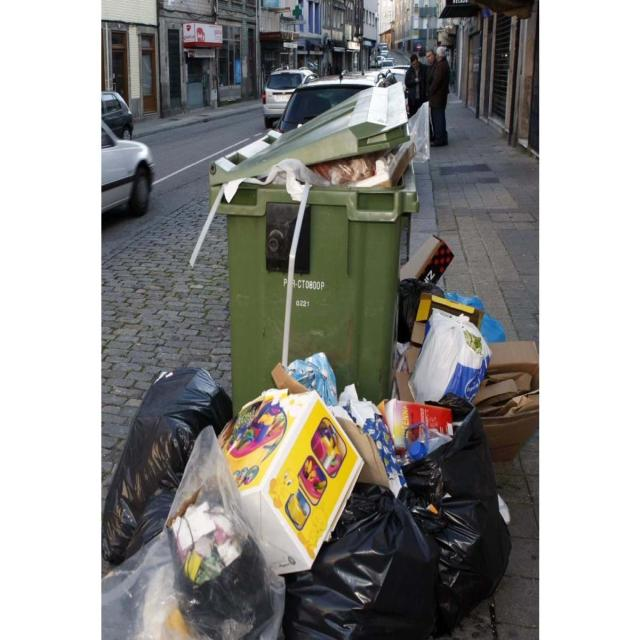garbage: (88, 114, 553, 640)
